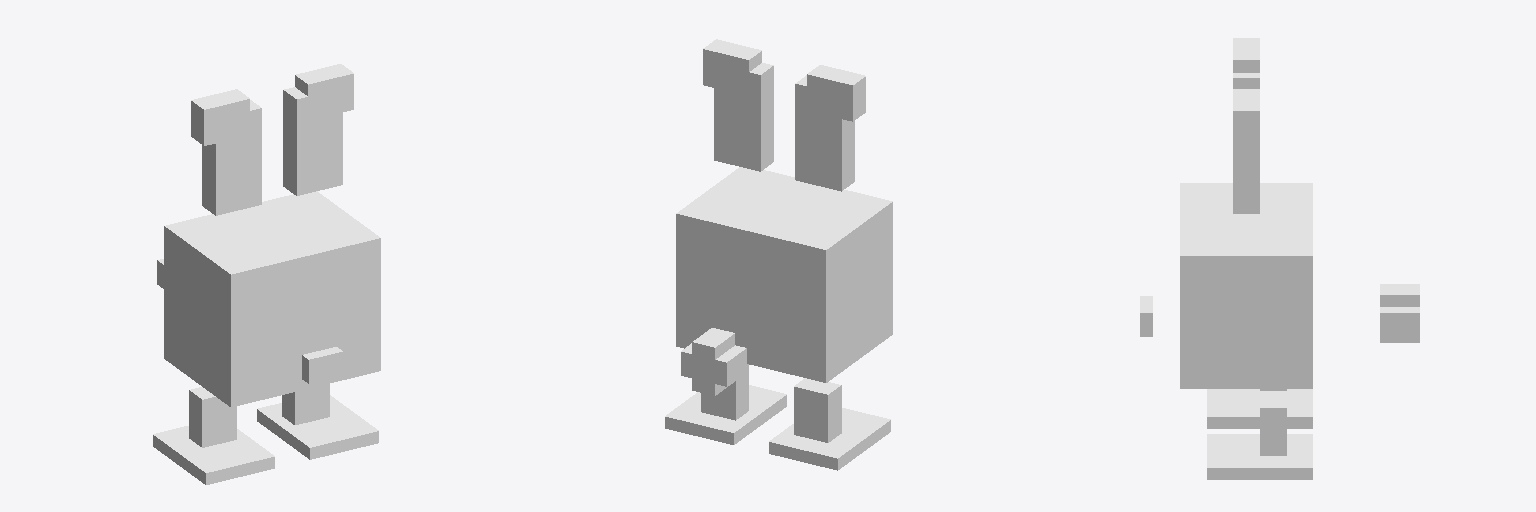
File: Bolitav1.obj
The picture shows the model from 3 angles: view 1: azimuth 30°, elevation 25°; view 2: azimuth 150°, elevation 25°; view 3: azimuth 270°, elevation 25°; orthographic projection.
Parts seen in each view (by area): view 1: object 1; view 2: object 1; view 3: object 1.
Part boxes in pixels (bbox=[...]): object 1: bbox=[153, 64, 380, 484]; object 1: bbox=[665, 39, 892, 470]; object 1: bbox=[1140, 38, 1419, 479].
Size of the model in its own units: 1.5 by 3 by 2.1.